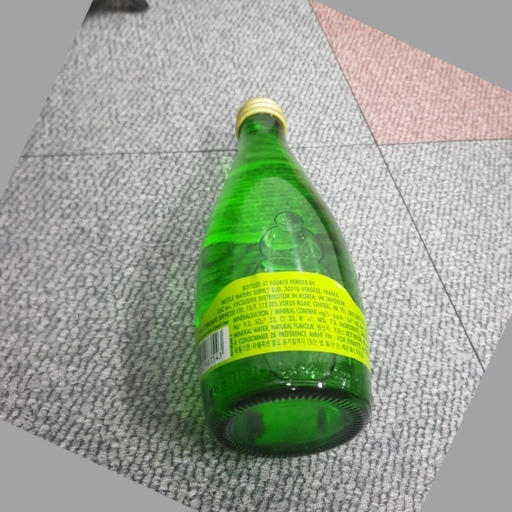Glass_4: (194, 97, 376, 453)
